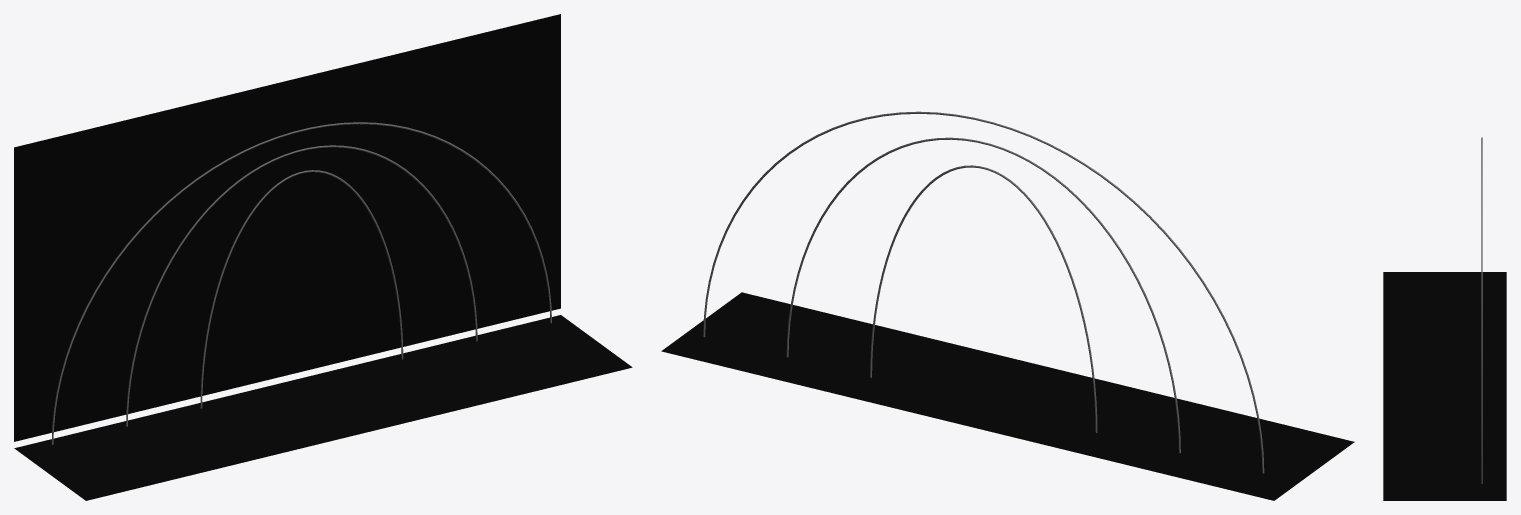
The model's file is chamber-shell.standard.glb.
3 renders of one model, left to right at view 1: azimuth 30°, elevation 25°; view 2: azimuth 150°, elevation 25°; view 3: azimuth 270°, elevation 25°, orthographic. The views are drawn at different scales.
Parts seen in each view (by area): view 1: shell, floor, arches; view 2: floor, arches; view 3: floor, arches.
Boxes of the visible parts, box(x1,y1,x2,y2) form: shell: box(14, 14, 560, 441); floor: box(14, 315, 632, 500); arches: box(51, 122, 551, 444); floor: box(661, 292, 1354, 500); arches: box(703, 111, 1264, 473); floor: box(1383, 272, 1506, 500); arches: box(1481, 137, 1482, 483).
Bounding box in the file's own units: 13.6 × 7.15 × 3.1.
2 materials, 2 textured.
